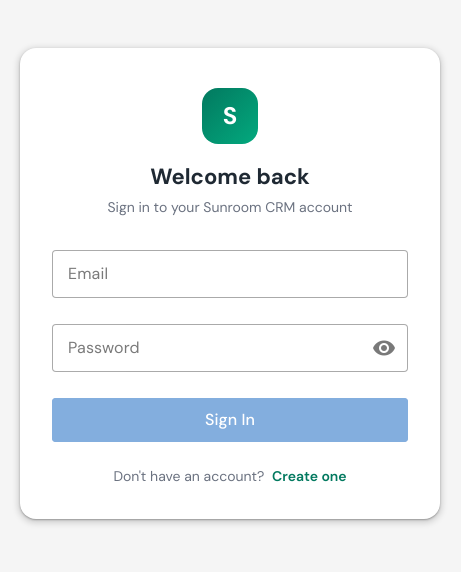
Scenario: LoginPage › shows the API error message when the login request fails with a body
Type "ada@example.com" into the field labelled "Email" at x=230, y=274, box [52,250,408,298]
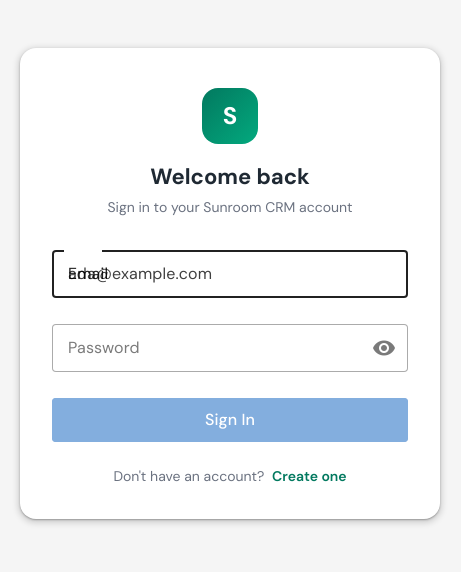
Type "wrongpw" into the password field labelled "Password" at x=212, y=348, box [52,324,372,372]
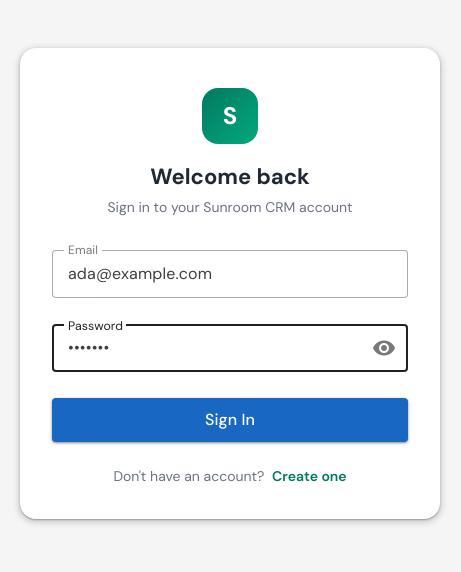
Submit the form, box [52,250,408,442]
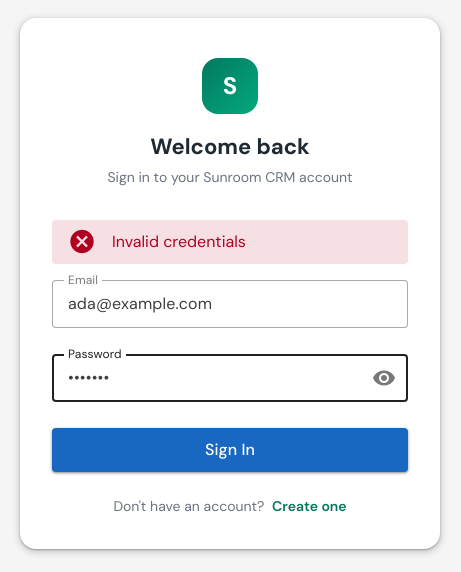
Check: the text "Invalid credentials" is shown, box [112,230,246,252]
